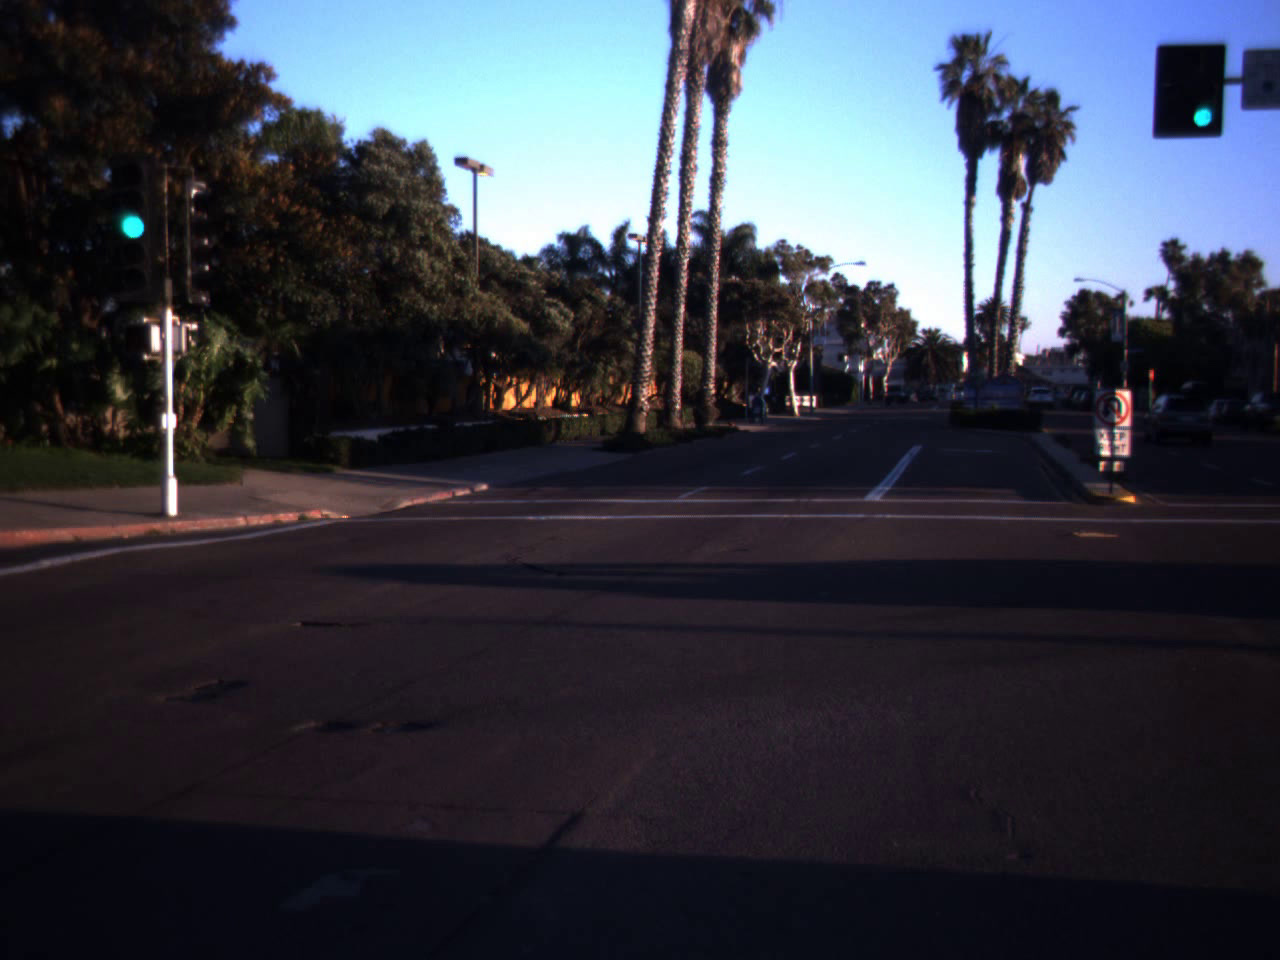go: (102, 147, 165, 247), (1182, 57, 1224, 132)
